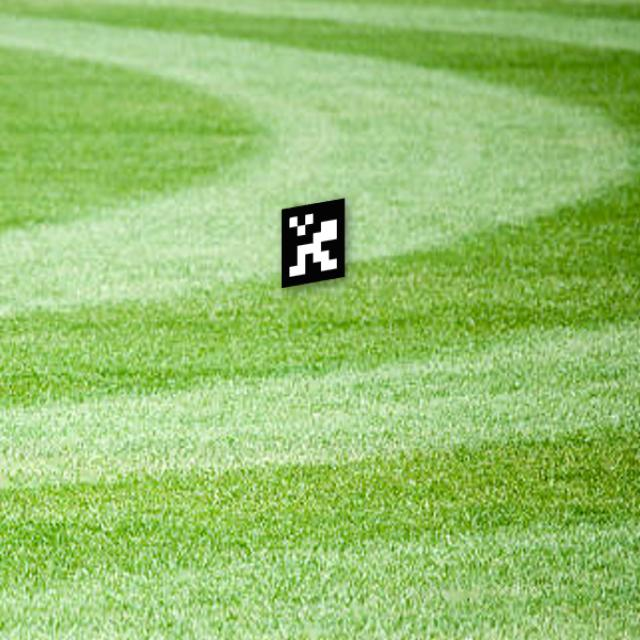marker: (276, 192, 361, 298)
